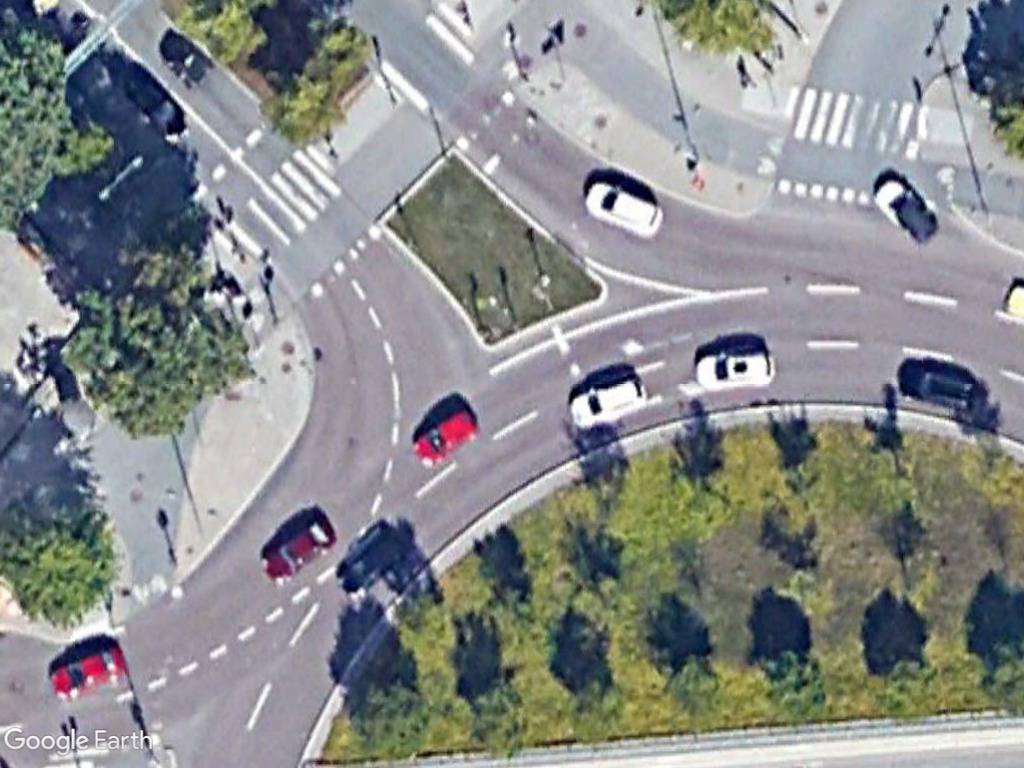car: (579, 173, 671, 242), (256, 511, 338, 587), (563, 365, 649, 435), (44, 636, 126, 704), (407, 404, 483, 474), (691, 342, 783, 396), (893, 359, 980, 414)
